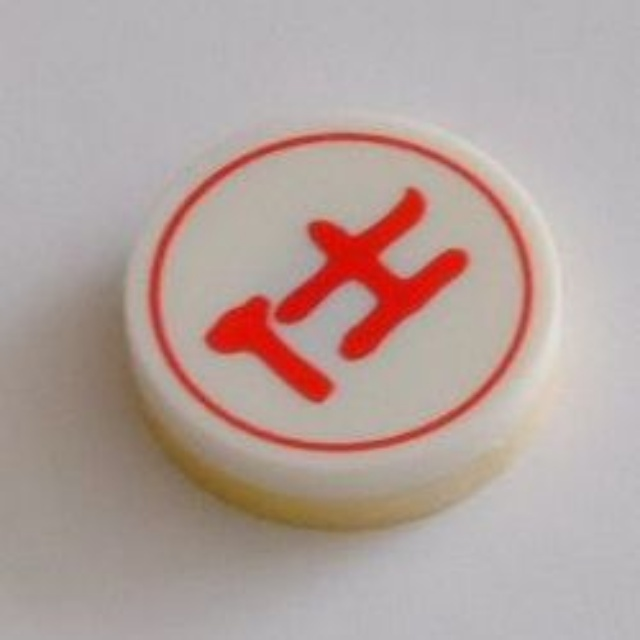red_si: (113, 92, 560, 529)
